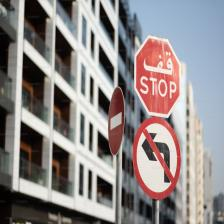Stop-sign: (131, 32, 186, 117)
